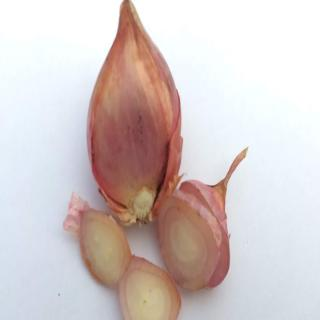Bawang Merah: (87, 1, 185, 228), (158, 146, 250, 293)
